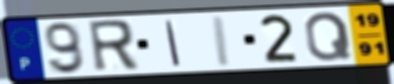2: (259, 13, 299, 64)
9: (42, 21, 87, 75)
I: (209, 14, 233, 68), (163, 19, 183, 67)
Q: (303, 10, 355, 63)
R: (85, 18, 142, 75)
